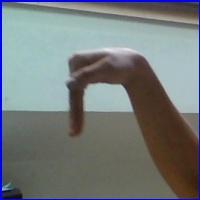del: (55, 46, 143, 141)
